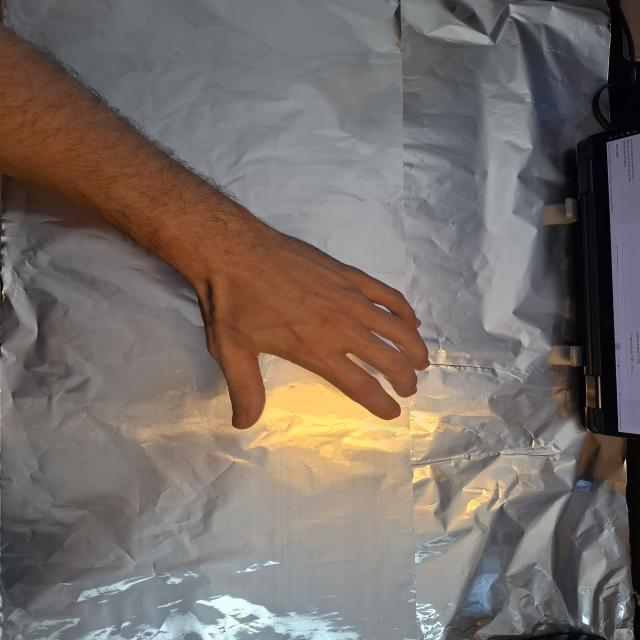glove_off: (183, 230, 434, 432)
